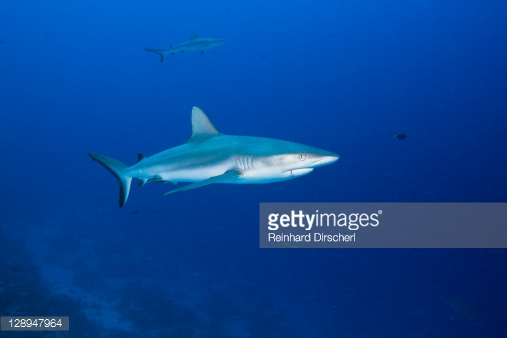Carcharhinus_amblyrhynchos: (84, 102, 348, 206)
